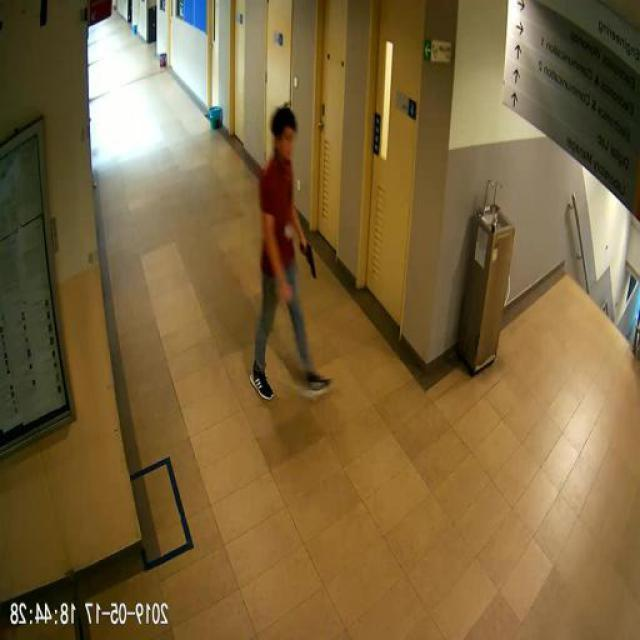weapon: (297, 243, 319, 278)
